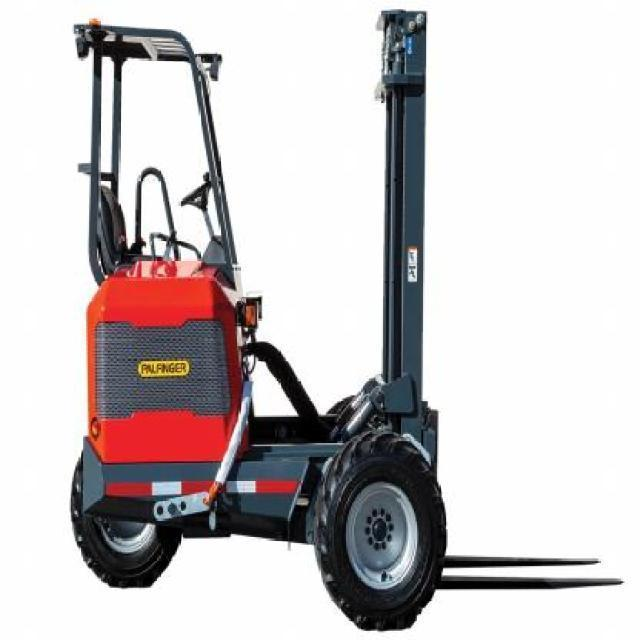forklift: (77, 26, 432, 603)
